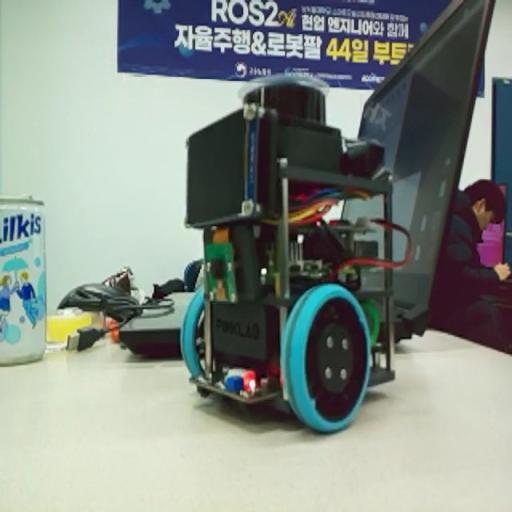pinky_63: (180, 70, 415, 434)
